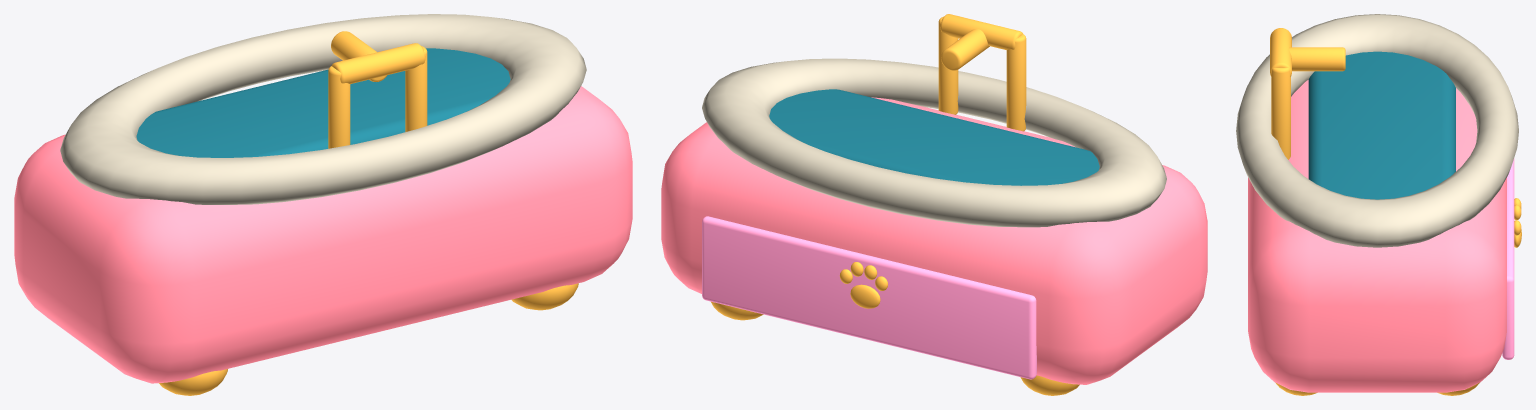
The model's file is BathroomTub.fbx.
3 views of the same model, side by side, from view 1: azimuth 30°, elevation 25°; view 2: azimuth 150°, elevation 25°; view 3: azimuth 270°, elevation 25° (orthographic). The views are drawn at different scales.
Visible parts, largest first — view 1: BathroomTub; view 2: BathroomTub; view 3: BathroomTub.
Boxes of the visible parts, x1,y1,x2,y2 form: BathroomTub: (14,14,632,395); BathroomTub: (661,14,1207,395); BathroomTub: (1236,14,1521,395).
Bounding box in the file's own units: 2.45 × 1.36 × 1.3.
